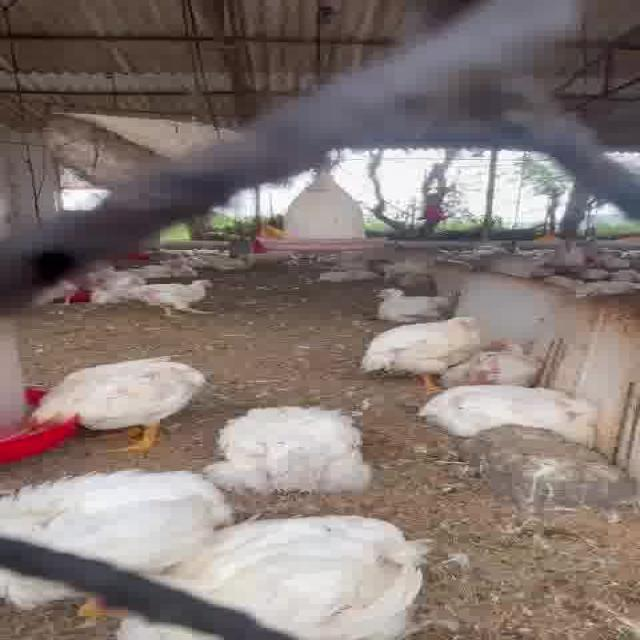AbNormal: (141, 515, 443, 640), (0, 469, 223, 601), (204, 399, 377, 496), (425, 382, 588, 437), (338, 276, 479, 324), (426, 339, 571, 385)
Normal: (14, 352, 217, 460), (368, 312, 494, 383), (121, 271, 236, 321)
